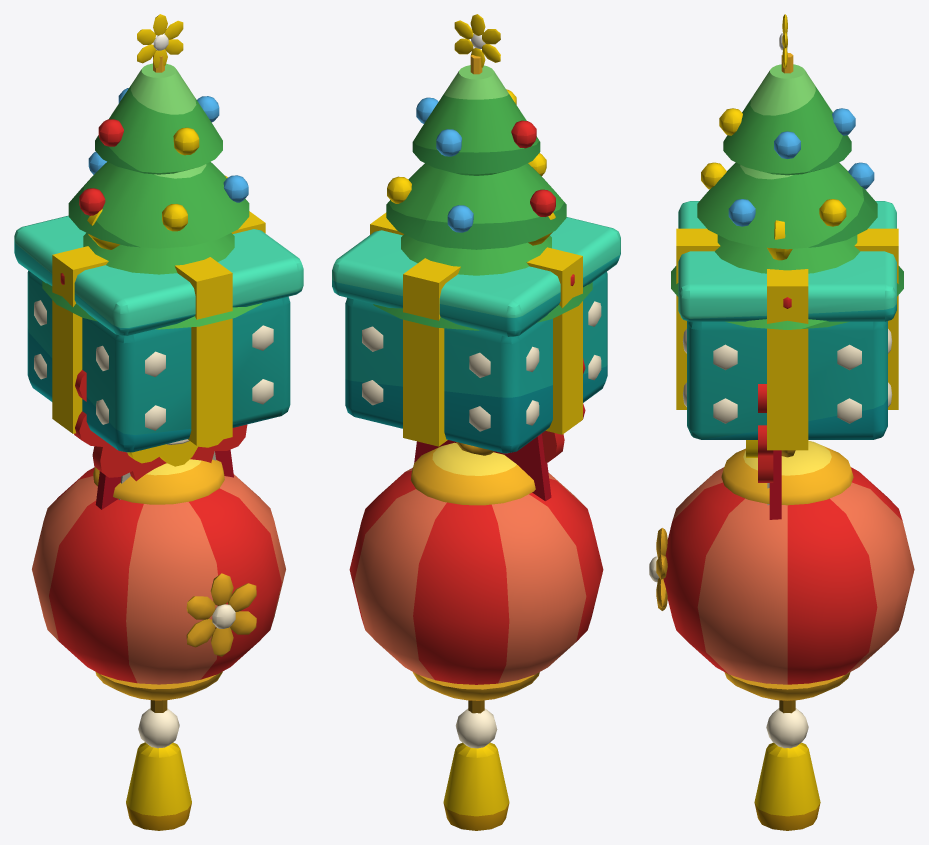
Rendered from items_seasonal-pop-up.glb.
The picture shows the model from 3 angles, left to right: view 1: azimuth 30°, elevation 25°; view 2: azimuth 150°, elevation 25°; view 3: azimuth 270°, elevation 25°; orthographic projection.
Parts seen in each view (by area): view 1: sea-lantern, sea-gift, sea-tree, sea-ribbon; view 2: sea-lantern, sea-gift, sea-tree, sea-ribbon; view 3: sea-lantern, sea-gift, sea-tree, sea-ribbon.
Boxes of the visible parts, left/top/right/bottom form: sea-lantern: left=32, top=459, right=285, bottom=830; sea-gift: left=14, top=175, right=303, bottom=452; sea-tree: left=42, top=14, right=262, bottom=329; sea-ribbon: left=74, top=370, right=247, bottom=509; sea-lantern: left=349, top=442, right=603, bottom=830; sea-gift: left=332, top=212, right=620, bottom=453; sea-tree: left=373, top=14, right=592, bottom=330; sea-ribbon: left=414, top=358, right=585, bottom=501; sea-lantern: left=649, top=440, right=914, bottom=830; sea-gift: left=676, top=201, right=898, bottom=450; sea-tree: left=671, top=14, right=903, bottom=329; sea-ribbon: left=746, top=384, right=781, bottom=519.
Size of the model in its own units: 0.43 by 1.5 by 0.4487.
